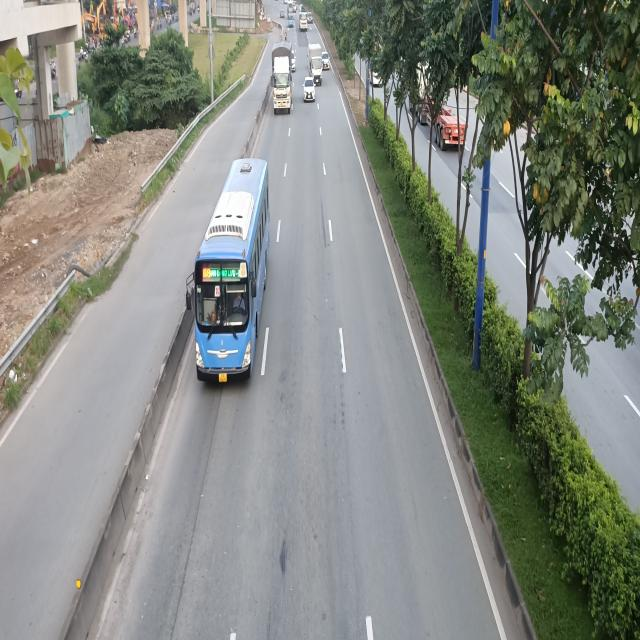car: (304, 77, 316, 102)
coach: (182, 158, 266, 380)
truck: (272, 43, 295, 114)
